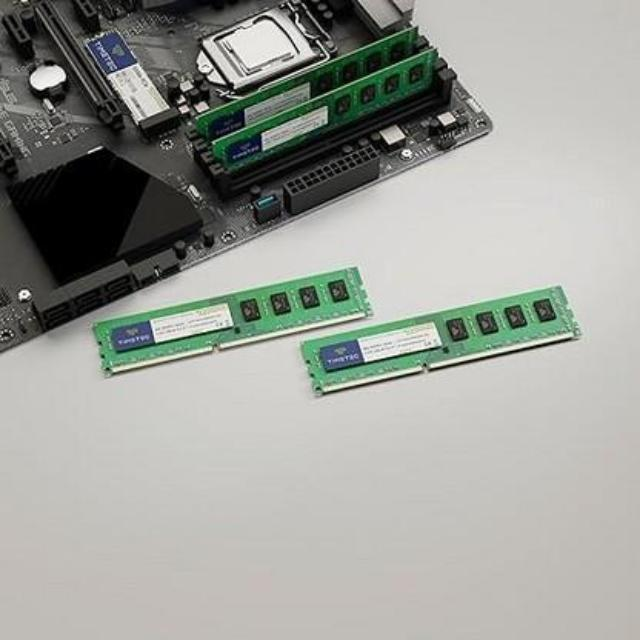CPU: (210, 11, 298, 79)
RAM: (70, 262, 592, 400), (177, 18, 460, 191)
